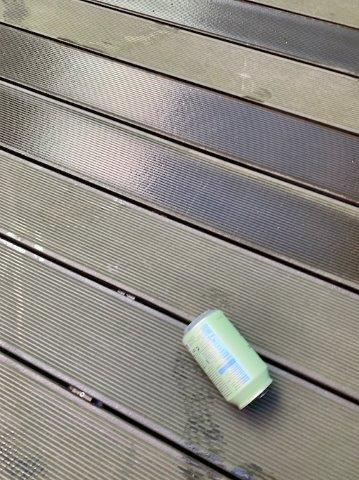kaleng: (183, 311, 271, 407)
